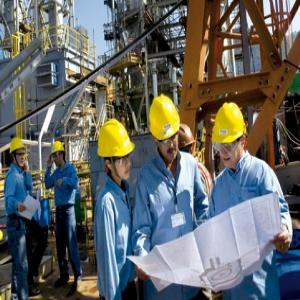yellow: (212, 99, 249, 172), (97, 118, 135, 189), (148, 93, 183, 162), (10, 137, 28, 170), (51, 141, 67, 168)
